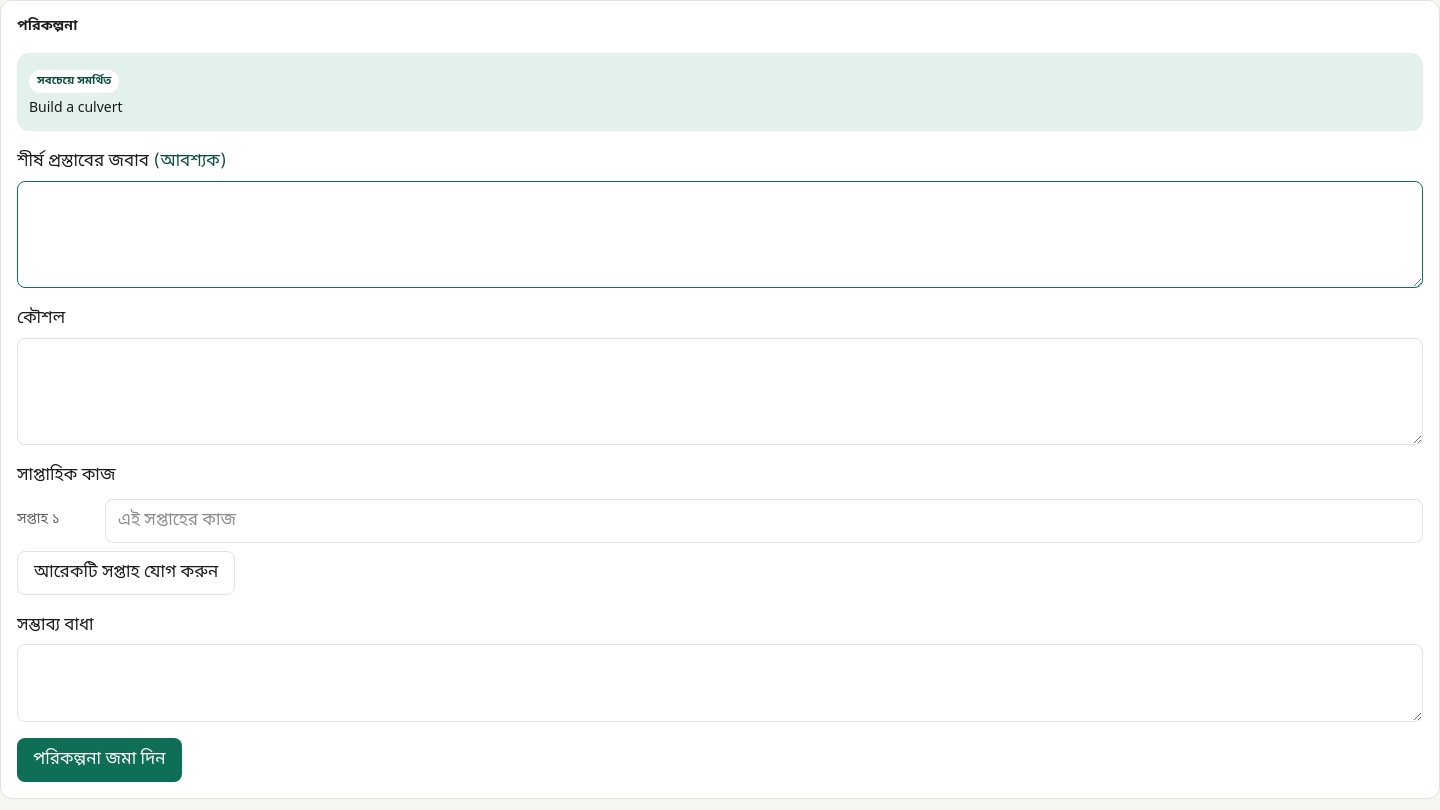
Test: PlanForm › blocks submit and shows errors when required fields are empty
The width and height of the screenshot is (1440, 810).
Click the button "পরিকল্পনা জমা দিন". click: (99, 760)
box: [17,738,182,782]
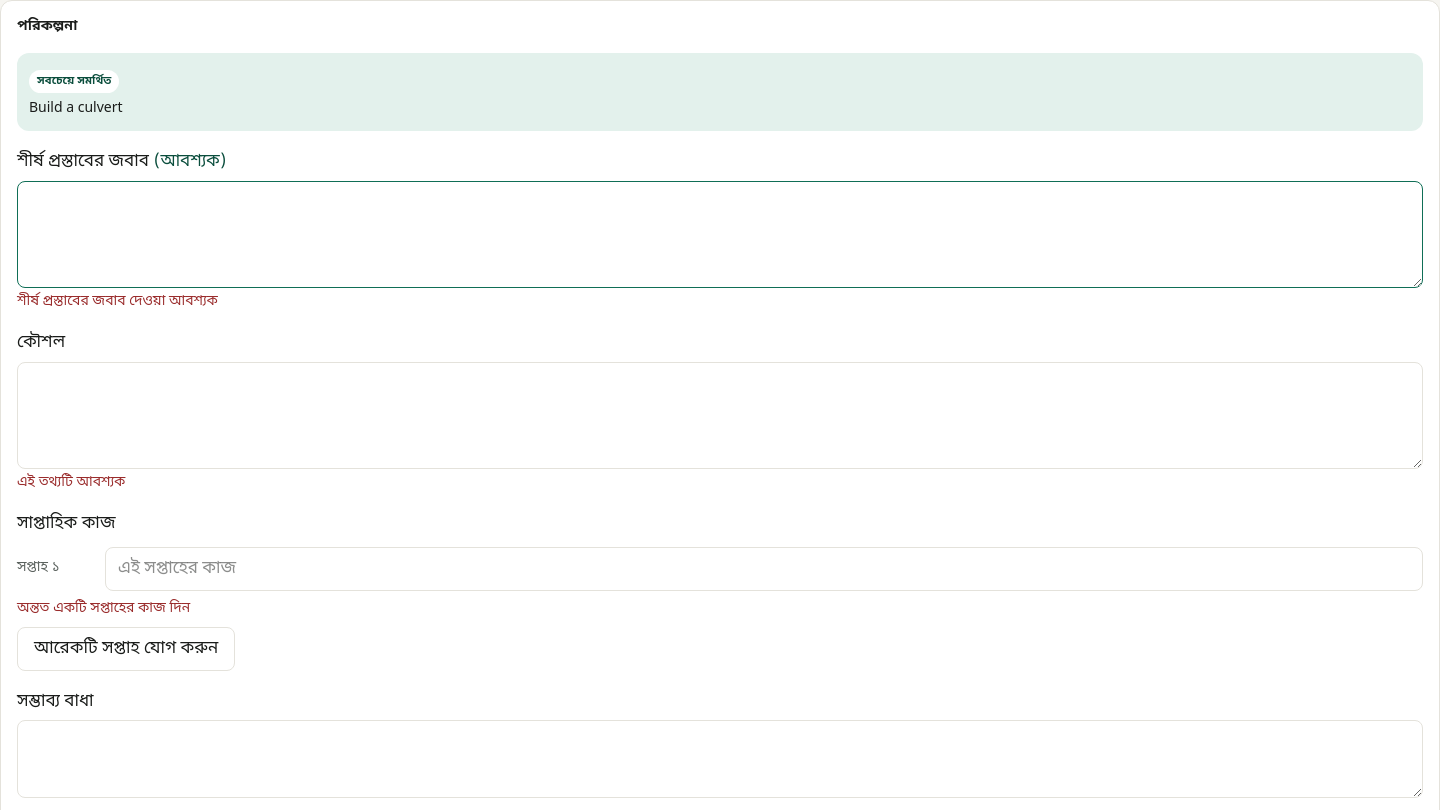
Expected: the text "শীর্ষ প্রস্তাবের জবাব দেওয়া আবশ্যক" is shown, [17,292,218,311]
Expected: the text "এই তথ্যটি আবশ্যক" is shown, [17,473,125,492]
